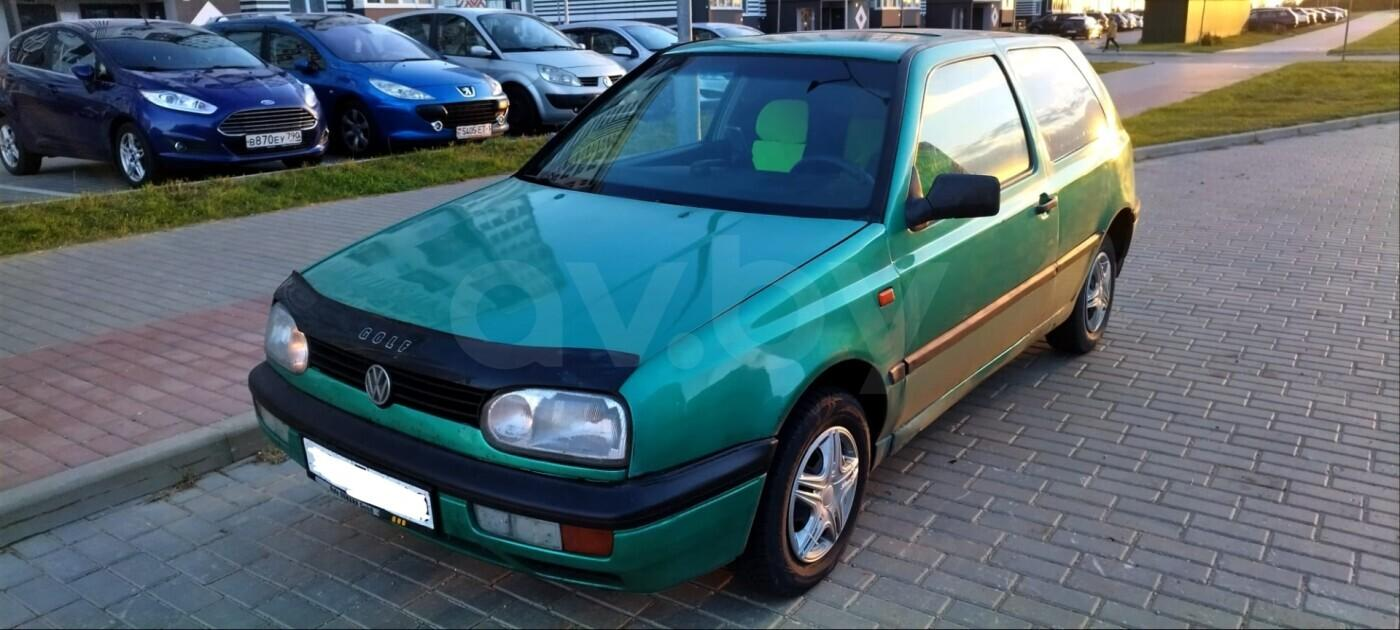Golf_1991-2000: (240, 25, 1139, 587)
